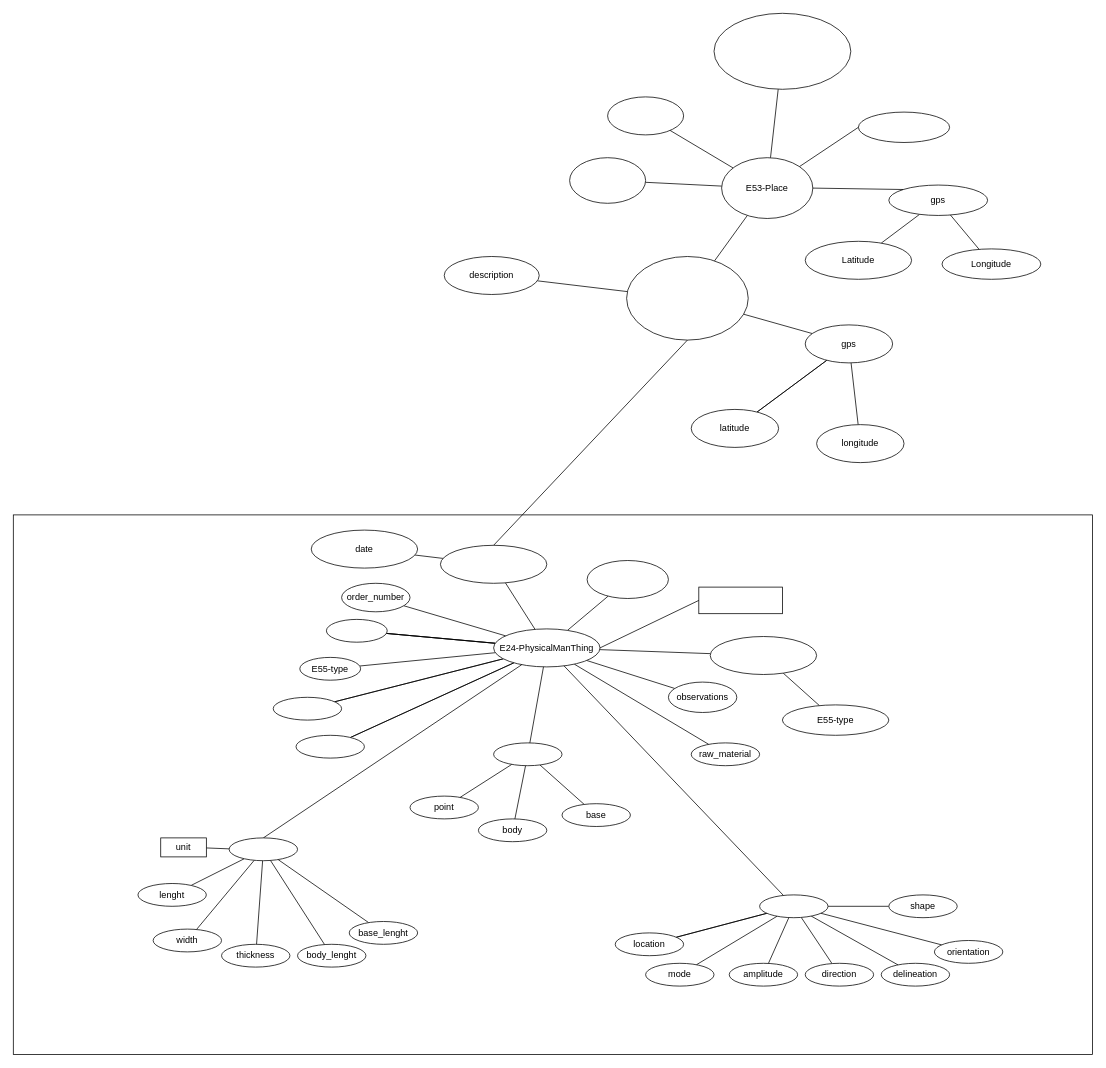
The diagram is 1106 pixels wide and 1068 high, and some of its shapes have lost their labels. The centre of each missing label's shape, as x and y in pixels:
"A2-StratigraphicVolumeUnit" belongs at (687,298).
"A9-ArchaeologicalExcavation" belongs at (782,51).
"district" belongs at (645,115).
"E3-ConditionState" belongs at (763,655).
"E36-VisualItem" belongs at (627,579).
"group" belongs at (356,630).
"inventory_number" belongs at (740,600).
"morphology" belongs at (527,754).
"name" belongs at (904,126).
"parish" belongs at (607,180).
"retouch" belongs at (793,906).
"S19-EncounterEvent" belongs at (493,564).
"sub_type" belongs at (307,708).
"typometry" belongs at (263,849).
"variant" belongs at (329,746).
